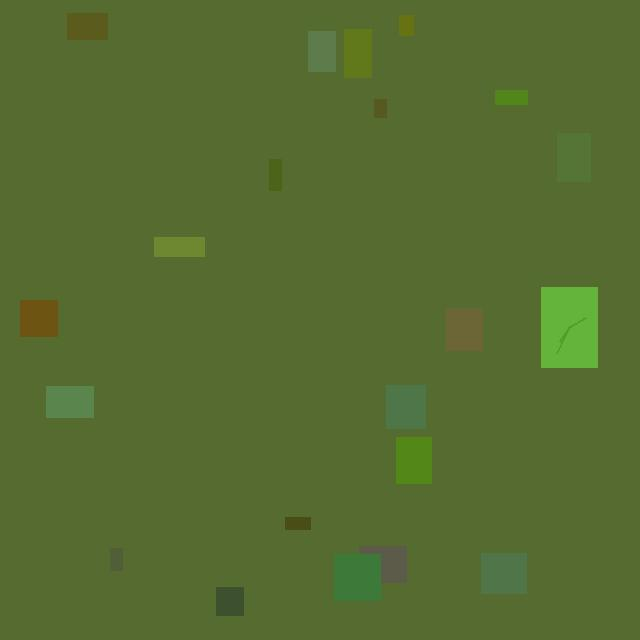weed: (540, 287, 597, 367)
